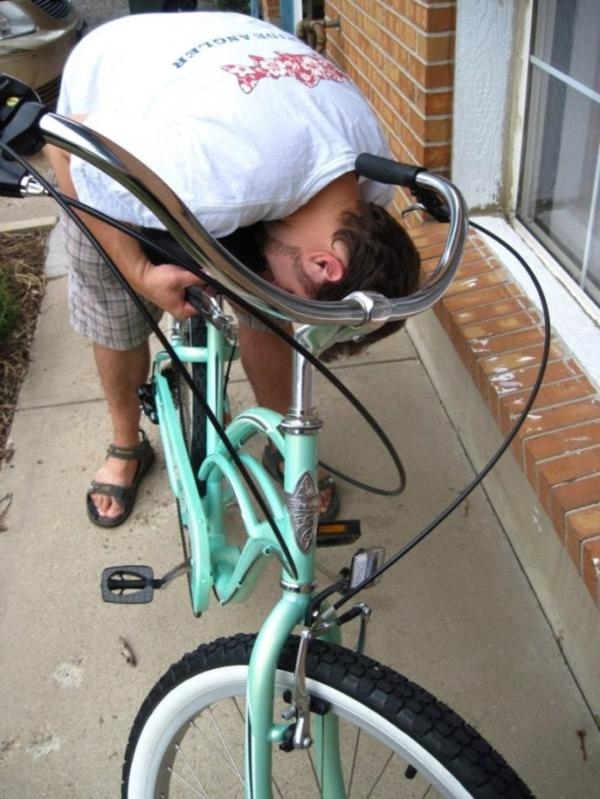person: (42, 8, 420, 527)
